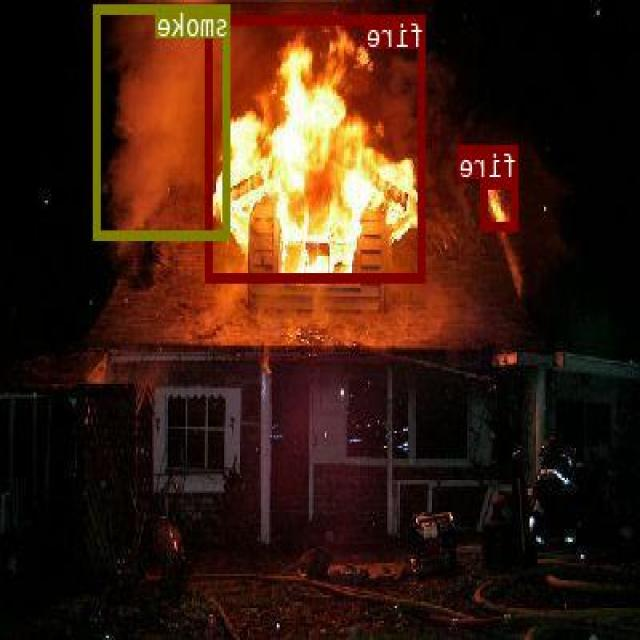fire: (208, 13, 426, 282), (483, 178, 519, 229)
smoke: (96, 4, 232, 238)
